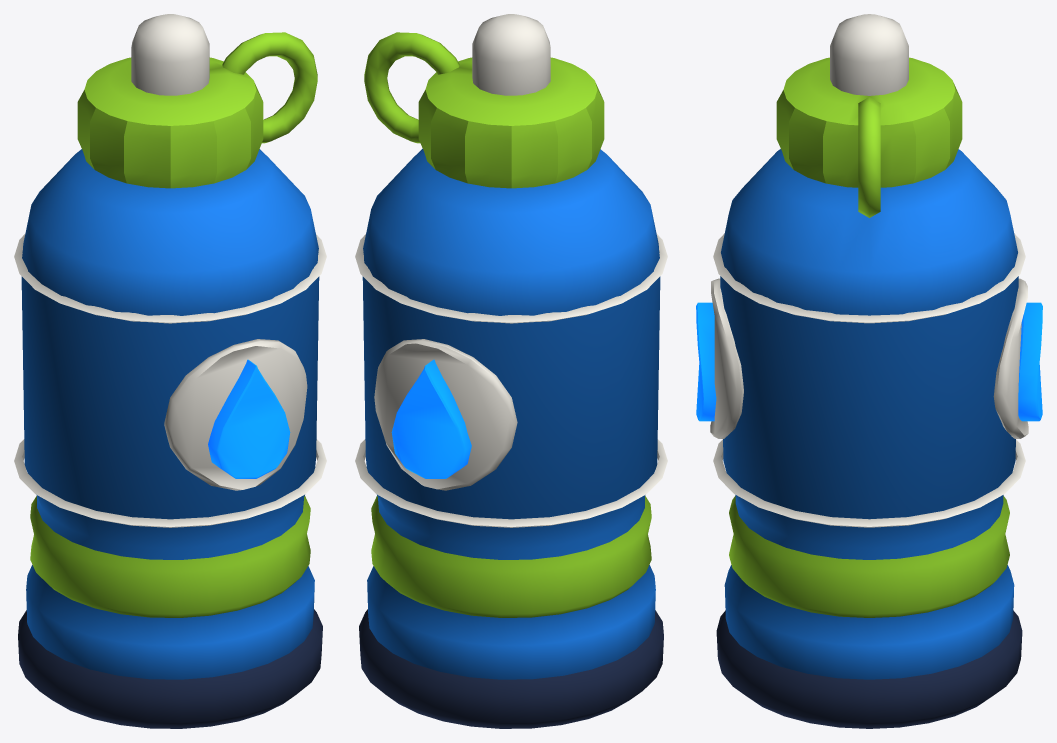
The model's file is boost-water.glb.
The picture shows the model from 3 angles, left to right: view 1: azimuth 30°, elevation 25°; view 2: azimuth 150°, elevation 25°; view 3: azimuth 270°, elevation 25°; orthographic projection.
Parts seen in each view (by area): view 1: Boost water Boost water blue, Boost water Sport cap lime, Boost water Bottle badge ivory, Boost water Grip navy, Water droplet; view 2: Boost water Boost water blue, Boost water Sport cap lime, Boost water Bottle badge ivory, Boost water Grip navy, Water droplet; view 3: Boost water Boost water blue, Boost water Sport cap lime, Boost water Bottle badge ivory, Boost water Grip navy, Water droplet.
Boxes of the visible parts, x1=… form: Boost water Boost water blue: x1=21, y1=149, x2=319, y2=679; Boost water Sport cap lime: x1=30, y1=32, x2=317, y2=617; Boost water Bottle badge ivory: x1=14, y1=14, x2=326, y2=527; Boost water Grip navy: x1=18, y1=609, x2=322, y2=728; Water droplet: x1=208, y1=359, x2=290, y2=478; Boost water Boost water blue: x1=362, y1=148, x2=660, y2=679; Boost water Sport cap lime: x1=364, y1=32, x2=651, y2=617; Boost water Bottle badge ivory: x1=355, y1=14, x2=667, y2=527; Boost water Grip navy: x1=359, y1=609, x2=663, y2=728; Water droplet: x1=391, y1=359, x2=471, y2=478; Boost water Boost water blue: x1=720, y1=149, x2=1018, y2=679; Boost water Sport cap lime: x1=729, y1=57, x2=1009, y2=617; Boost water Bottle badge ivory: x1=710, y1=14, x2=1028, y2=527; Boost water Grip navy: x1=716, y1=610, x2=1022, y2=728; Water droplet: x1=696, y1=302, x2=1042, y2=421.
Size of the model in its own units: 0.478 by 1.05 by 0.508.
